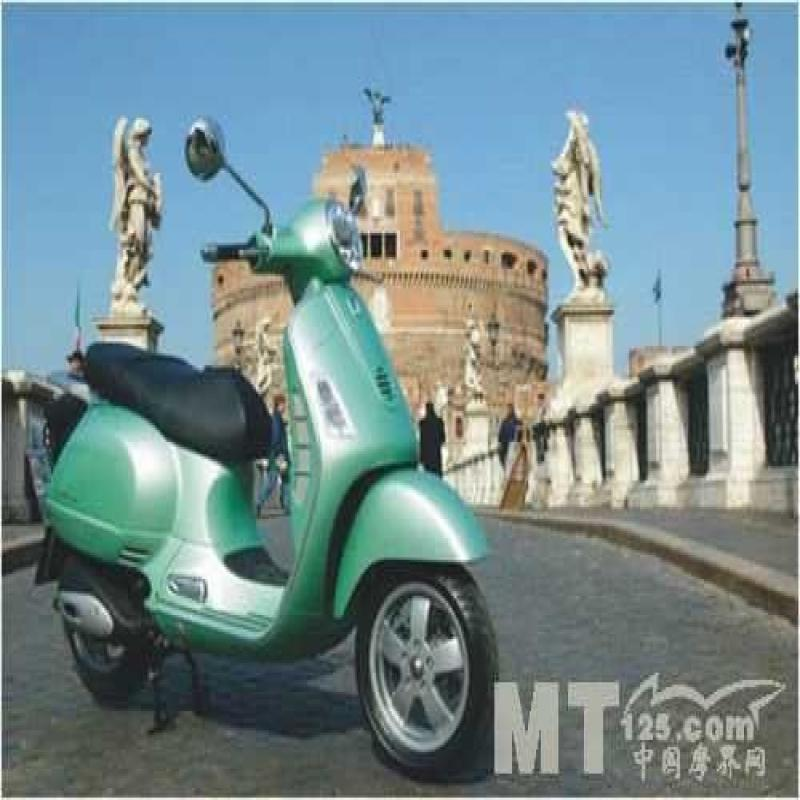bike: (43, 86, 493, 770)
